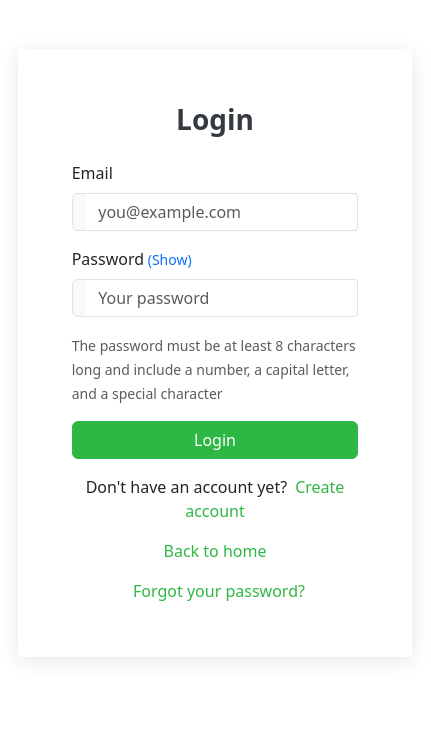
Scenario: LoginForm Component test › should display error message when form is invalid
Click the button "Login": {"x": 215, "y": 440} [72,421,358,459]
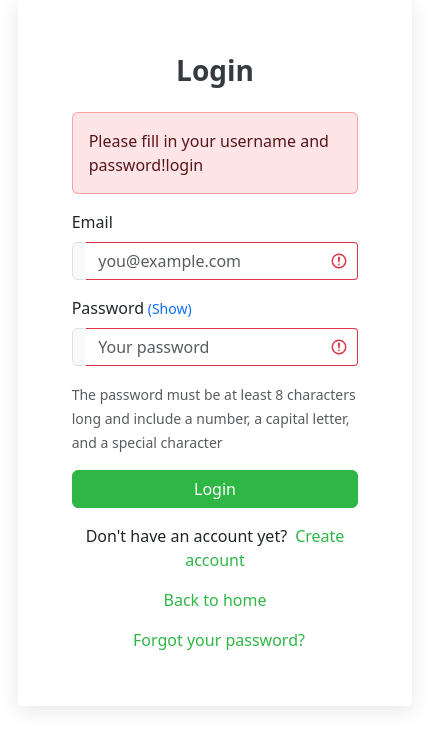
Result: the text "Please fill in your username and password!login" is shown at [72,112,358,194]
